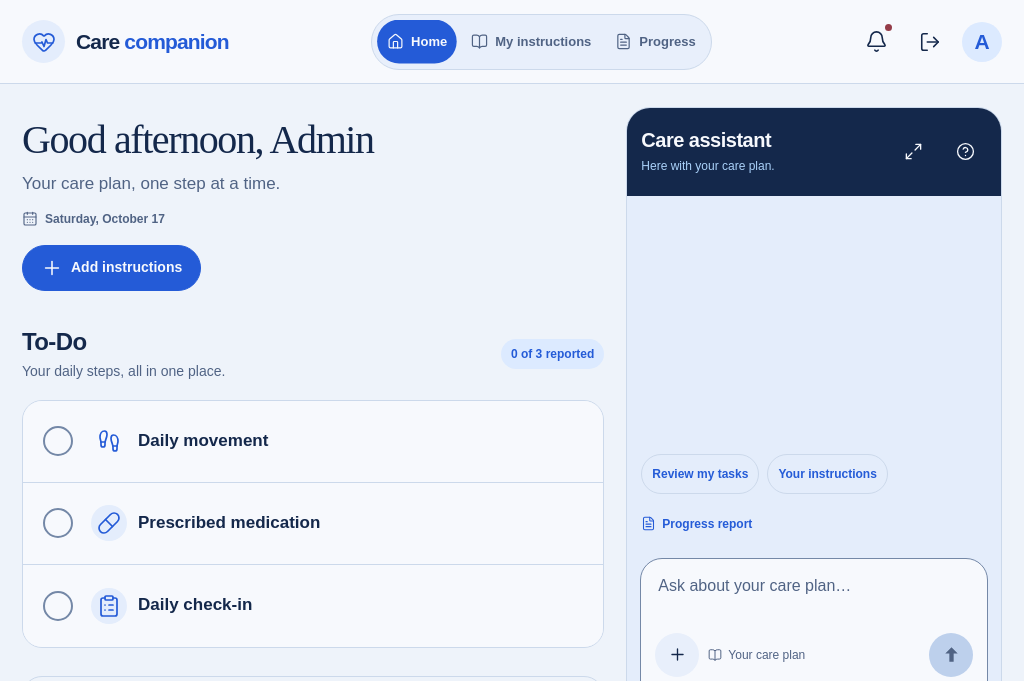
Scenario: shows a sign-out failure instead of swallowing it
Click the button named "Sign out admin@demo.example.com": (930, 42) [908,20,952,64]
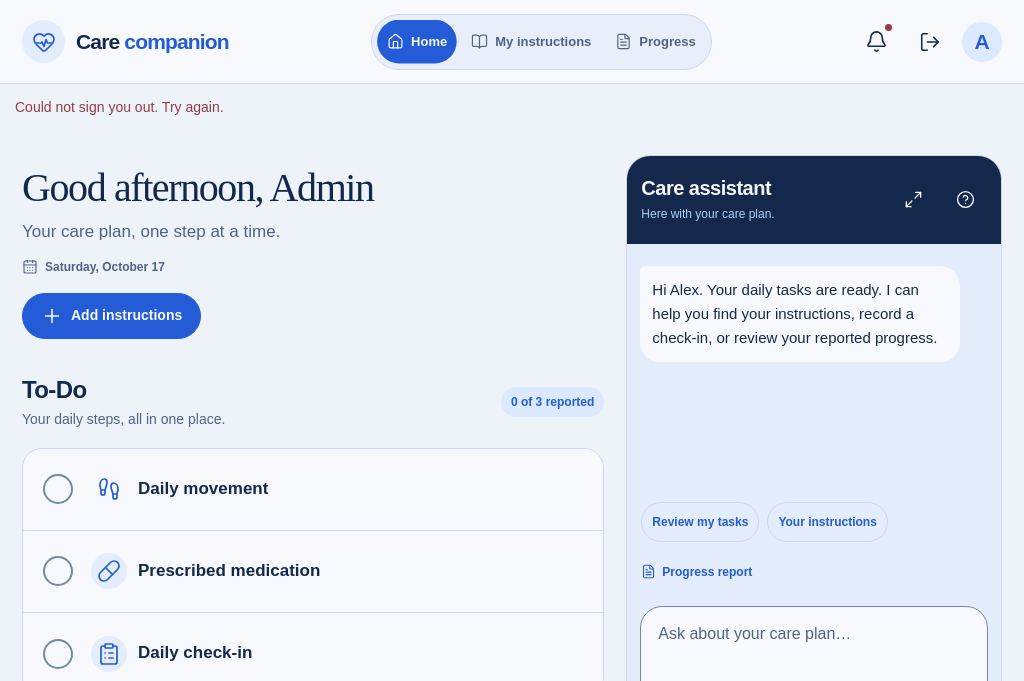
Check: the message "Could not sign you out. Try again." is shown, box [0,84,1023,132]
